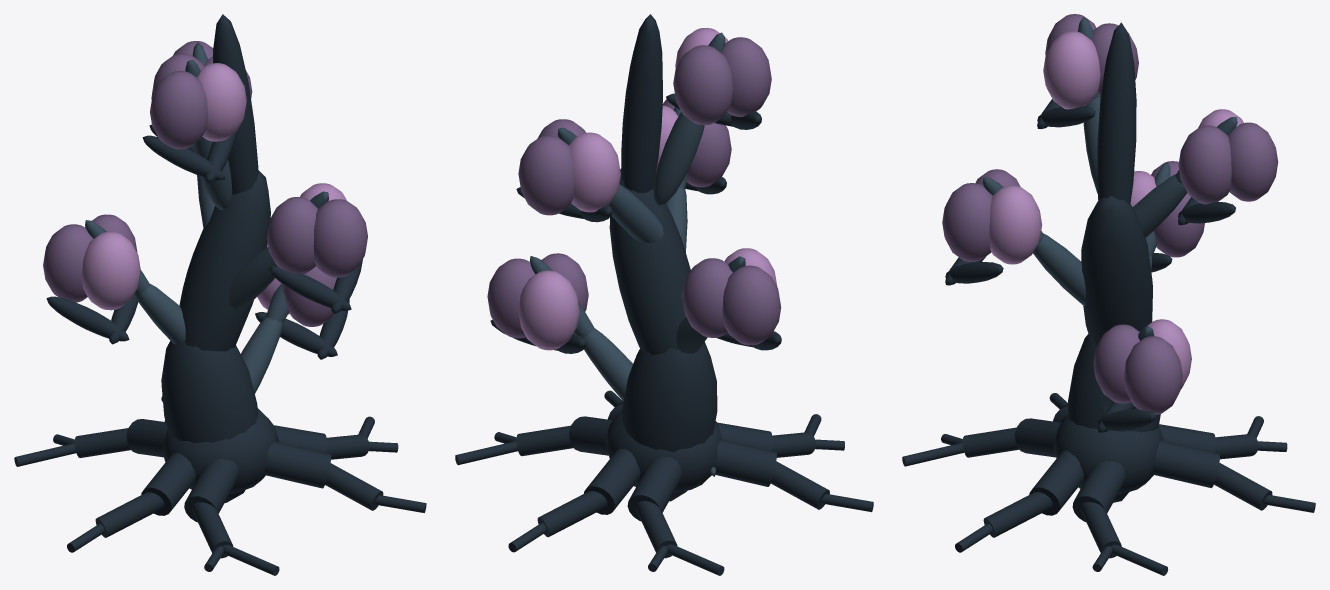
File: CMU3DHiveHiveRecoveryNodeXenoConstructionNode.glb
3 views of the same model, side by side, from view 1: azimuth 30°, elevation 25°; view 2: azimuth 150°, elevation 25°; view 3: azimuth 270°, elevation 25° (orthographic).
Parts seen in each view (by area): view 1: clustered recovery petal (×9), twisting nutrient trunk (×3), sinuous anchoring root (×13), nutrient cup calyx (×8), arched nutrient branch (×5), construction bud; view 2: clustered recovery petal (×12), twisting nutrient trunk (×3), sinuous anchoring root (×13), arched nutrient branch (×6), construction bud; view 3: clustered recovery petal (×12), twisting nutrient trunk (×3), sinuous anchoring root (×13), arched nutrient branch (×3), construction bud, nutrient cup calyx (×4).
Part boxes in pixels (x1,y1,x2,y2): clustered recovery petal (×9): (43,53,367,326); twisting nutrient trunk (×3): (161,14,270,502); sinuous anchoring root (×13): (14,419,426,575); nutrient cup calyx (×8): (46,132,362,359); arched nutrient branch (×5): (134,136,289,393); construction bud: (162,408,278,493); clustered recovery petal (×12): (487,28,781,350); twisting nutrient trunk (×3): (609,14,717,501); sinuous anchoring root (×13): (455,416,873,575); arched nutrient branch (×6): (529,112,707,400); construction bud: (605,411,722,493); clustered recovery petal (×12): (942,14,1278,414); twisting nutrient trunk (×3): (1068,22,1160,502); sinuous anchoring root (×13): (902,418,1315,575); arched nutrient branch (×3): (1033,97,1187,305); construction bud: (1053,415,1163,494); nutrient cup calyx (×4): (945,106,1235,430).
Size of the model in its own units: 0.9671 by 1.24 by 0.9609.
